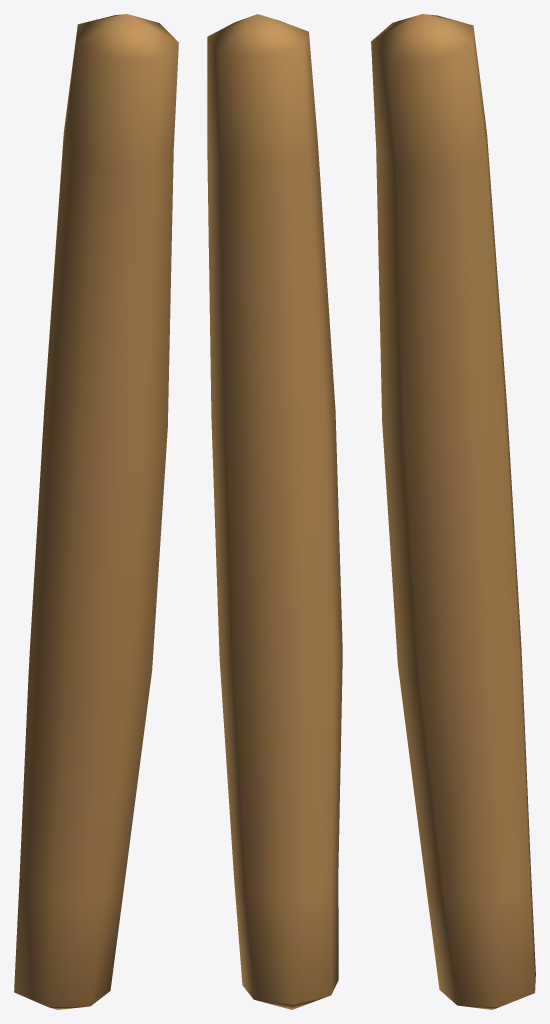
The model's file is tarsus2_T3_left_leg.obj.
3 renders of one model, left to right at view 1: azimuth 90°, elevation 25°; view 2: azimuth 210°, elevation 25°; view 3: azimuth 270°, elevation 25°, orthographic. The views are drawn at different scales.
Size of the model in its own units: 0.003 by 0.0259 by 0.00388.
